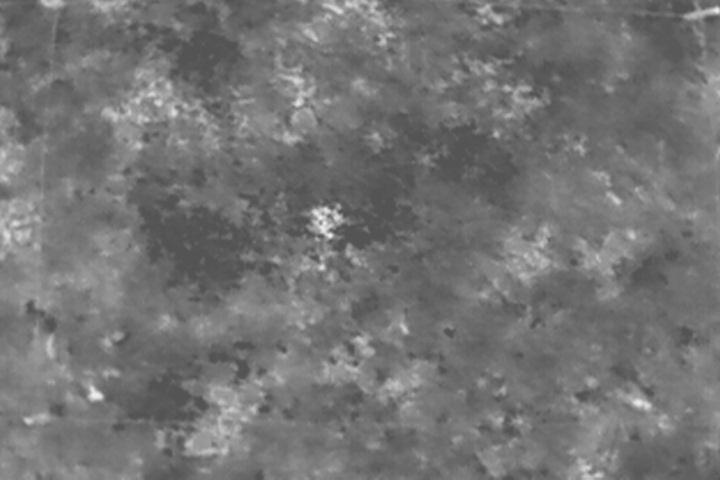landmine: (307, 197, 353, 244)
